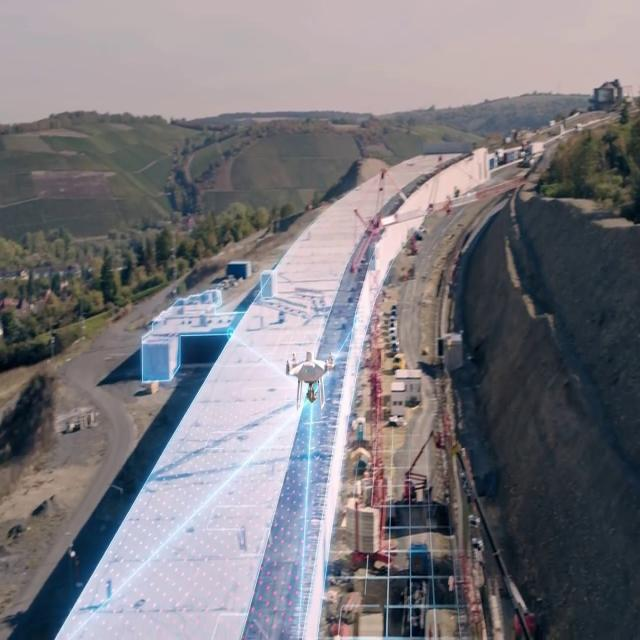drone: (281, 348, 338, 410)
